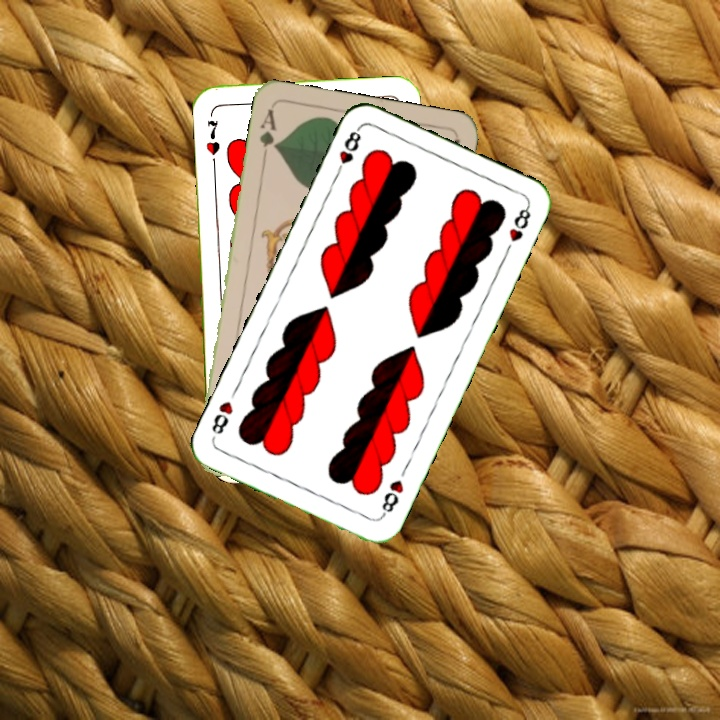GA: (255, 105, 280, 164)
H7: (202, 116, 222, 158)
H8: (331, 123, 364, 179), (376, 475, 406, 521)
